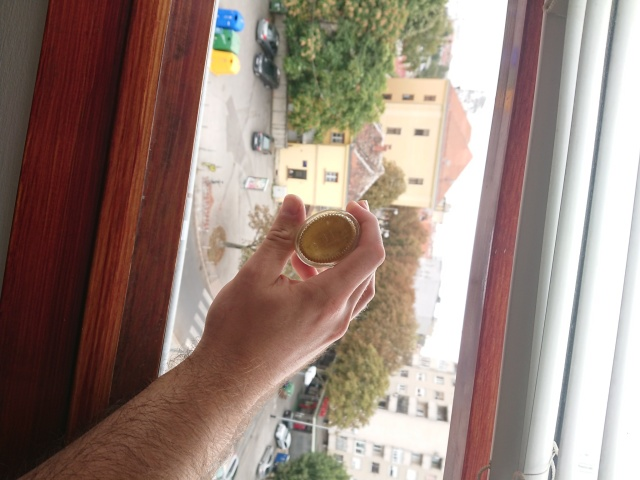Kotanyi Curry Spices Mix 70g: (291, 207, 364, 270)
